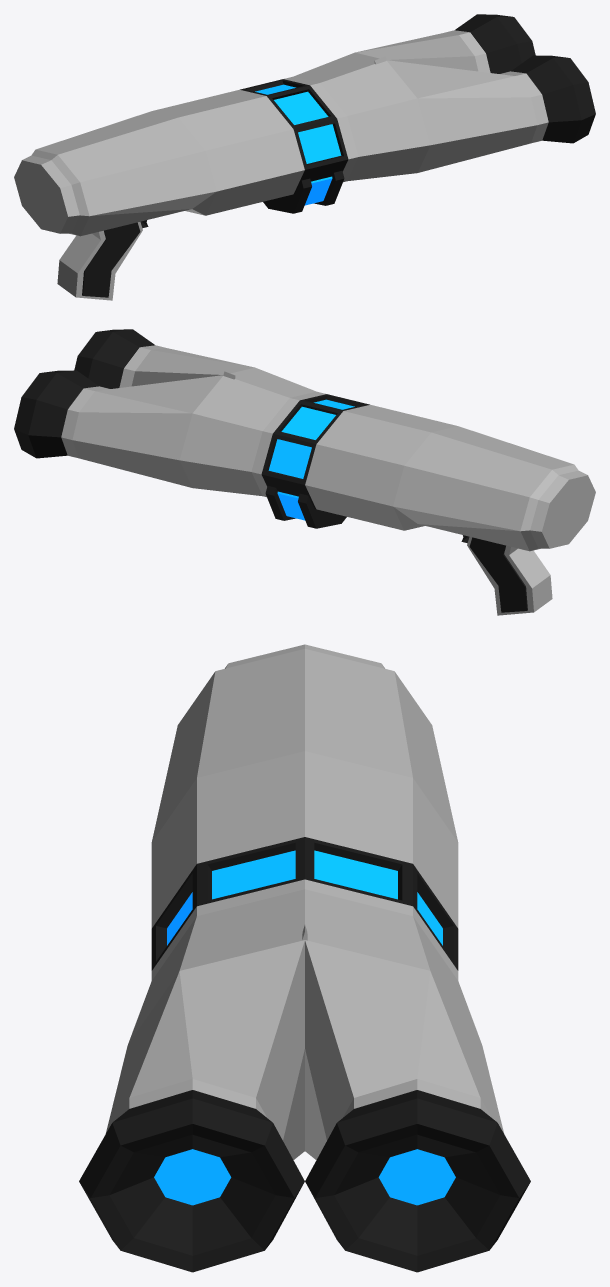
The model's file is SM_Shotty_double.fbx.
3 views of the same model, one above another, from view 1: azimuth 30°, elevation 25°; view 2: azimuth 150°, elevation 25°; view 3: azimuth 270°, elevation 25° (orthographic). The views are drawn at different scales.
Visible parts, largest first — view 1: Cube.002; view 2: Cube.002; view 3: Cube.002.
Boxes of the visible parts, x1,y1,x2,y2 form: Cube.002: (14,14,595,300); Cube.002: (14,329,595,615); Cube.002: (79,644,530,1272).
Bounding box in the file's own units: 53.59 × 17.23 × 20.92.
